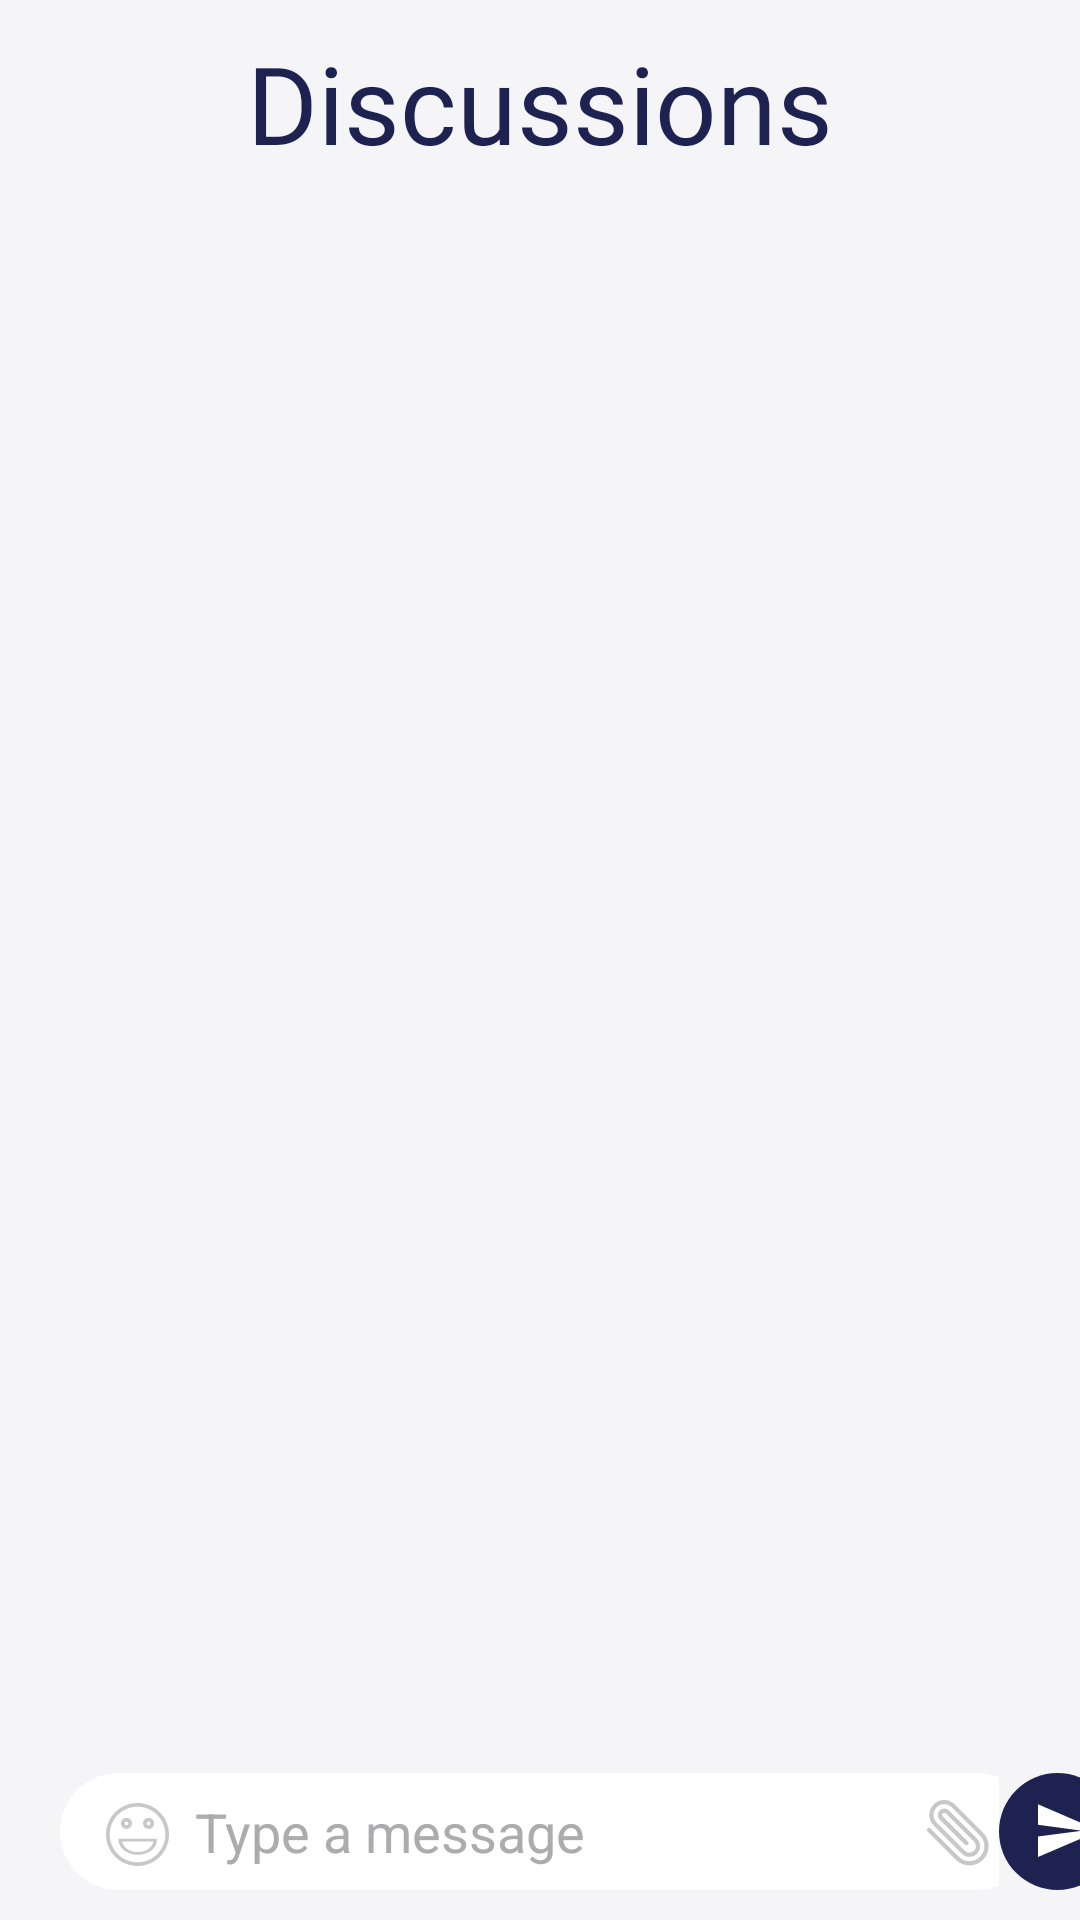

Screen size 1080*1920. Icon name, then its center in pixels as [x,y]:
attached: [958,1833]
emoji: [137,1834]
